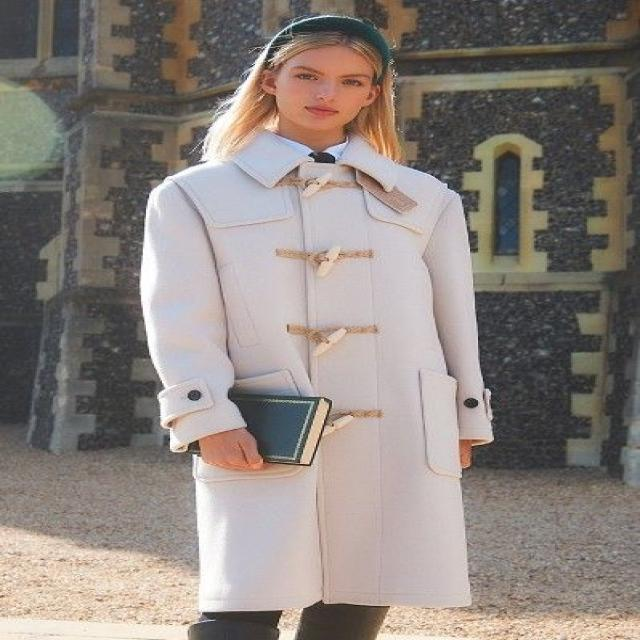coat: (138, 126, 496, 615)
